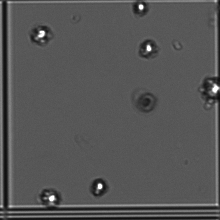Dead Cell: (134, 90, 159, 112)
Living Cell: (136, 38, 160, 59), (40, 189, 61, 206), (33, 24, 51, 42), (132, 1, 152, 17), (90, 179, 108, 193)
